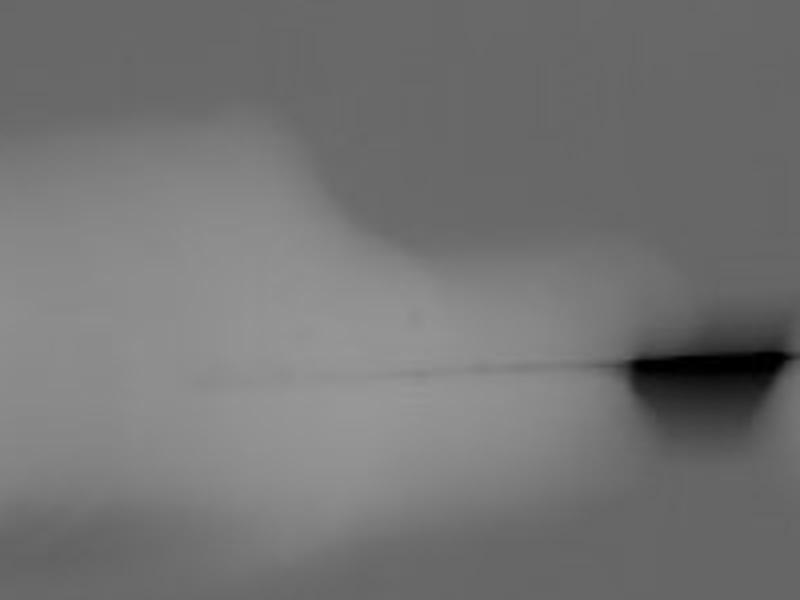defect: (619, 353, 783, 439)
